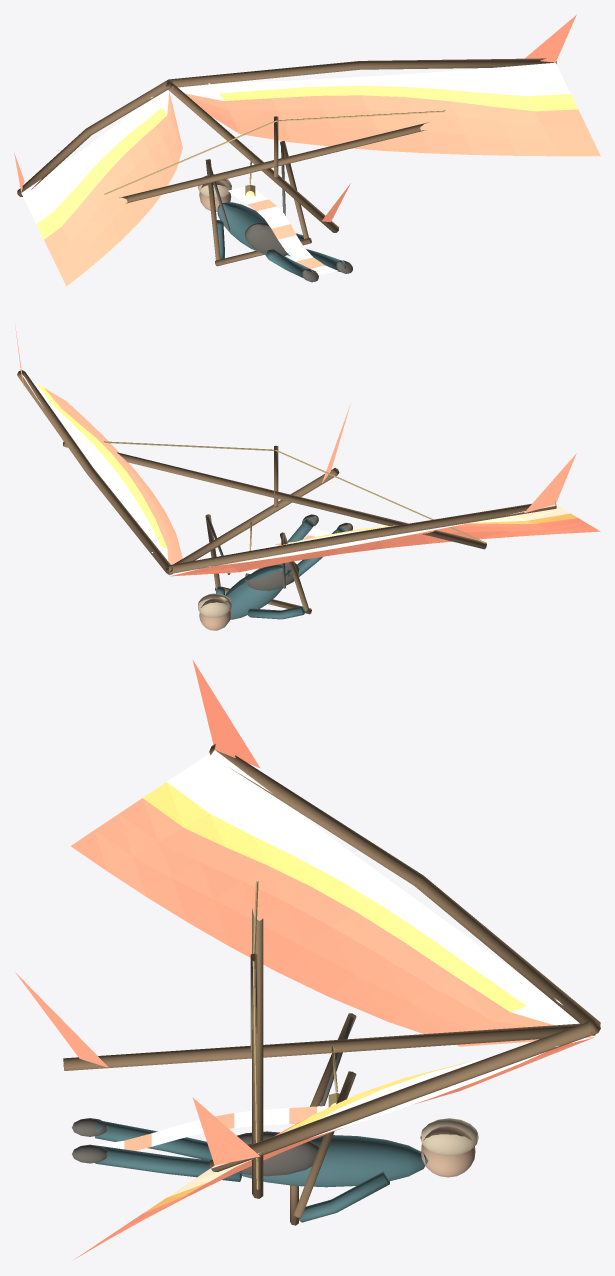
Rendered from glider.glb.
3 views of the same model, one above another, from view 1: azimuth 30°, elevation 25°; view 2: azimuth 150°, elevation 25°; view 3: azimuth 270°, elevation 25° (orthographic). The views are drawn at different scales.
Visible parts, largest first — view 1: Sail1, Sail0, Sail2, LeadingEdgeR, Crossbar, Scarf, Keel, LeadingEdgeL, Body, Harness, TipFinR, WireL (+4 smaller); view 2: Sail1, Sail0, LeadingEdgeL, Crossbar, LeadingEdgeR, Sail2, Body, Keel, WireL, TipFinL, Harness, Helmet (+2 smaller); view 3: Sail1, Sail0, Sail2, Keel, LeadingEdgeL, LeadingEdgeR, Body, Scarf, Crossbar, LegR, TipFinL, TipFinR (+8 smaller).
Part boxes in pixels (x1,y1,x2,y2): Sail1: (44,91,600,286); Sail0: (21,62,570,223); Sail2: (36,85,577,239); LeadingEdgeR: (168,58,556,87); Crossbar: (119,122,429,203); Scarf: (228,186,337,274); Keel: (165,82,338,232); LeadingEdgeL: (17,79,172,196); Body: (217,202,287,255); Harness: (244,222,287,255); TipFinR: (525,14,576,62); WireL: (104,110,445,194); Sail1: (44,388,600,576); Sail0: (22,375,570,575); LeadingEdgeL: (168,501,556,573); Crossbar: (63,441,486,549); LeadingEdgeR: (17,370,172,573); Sail2: (36,383,577,548); Body: (225,564,289,619); Keel: (166,468,339,574); WireL: (103,441,485,543); TipFinL: (524,453,576,513); Harness: (244,562,299,590); Helmet: (198,593,231,617); Sail1: (70,798,593,1259); Sail0: (167,750,594,1197); Sail2: (143,782,526,1213); Keel: (63,1023,595,1070); LeadingEdgeL: (209,744,600,1032); LeadingEdgeR: (209,1019,600,1171); Body: (242,1135,428,1187); Scarf: (96,1105,371,1150); Crossbar: (252,908,263,1198); LegR: (95,1146,242,1181); TipFinL: (192,660,259,767); TipFinR: (192,1097,260,1165).
Size of the model in its own units: 7.9 by 2.62 by 4.47.
